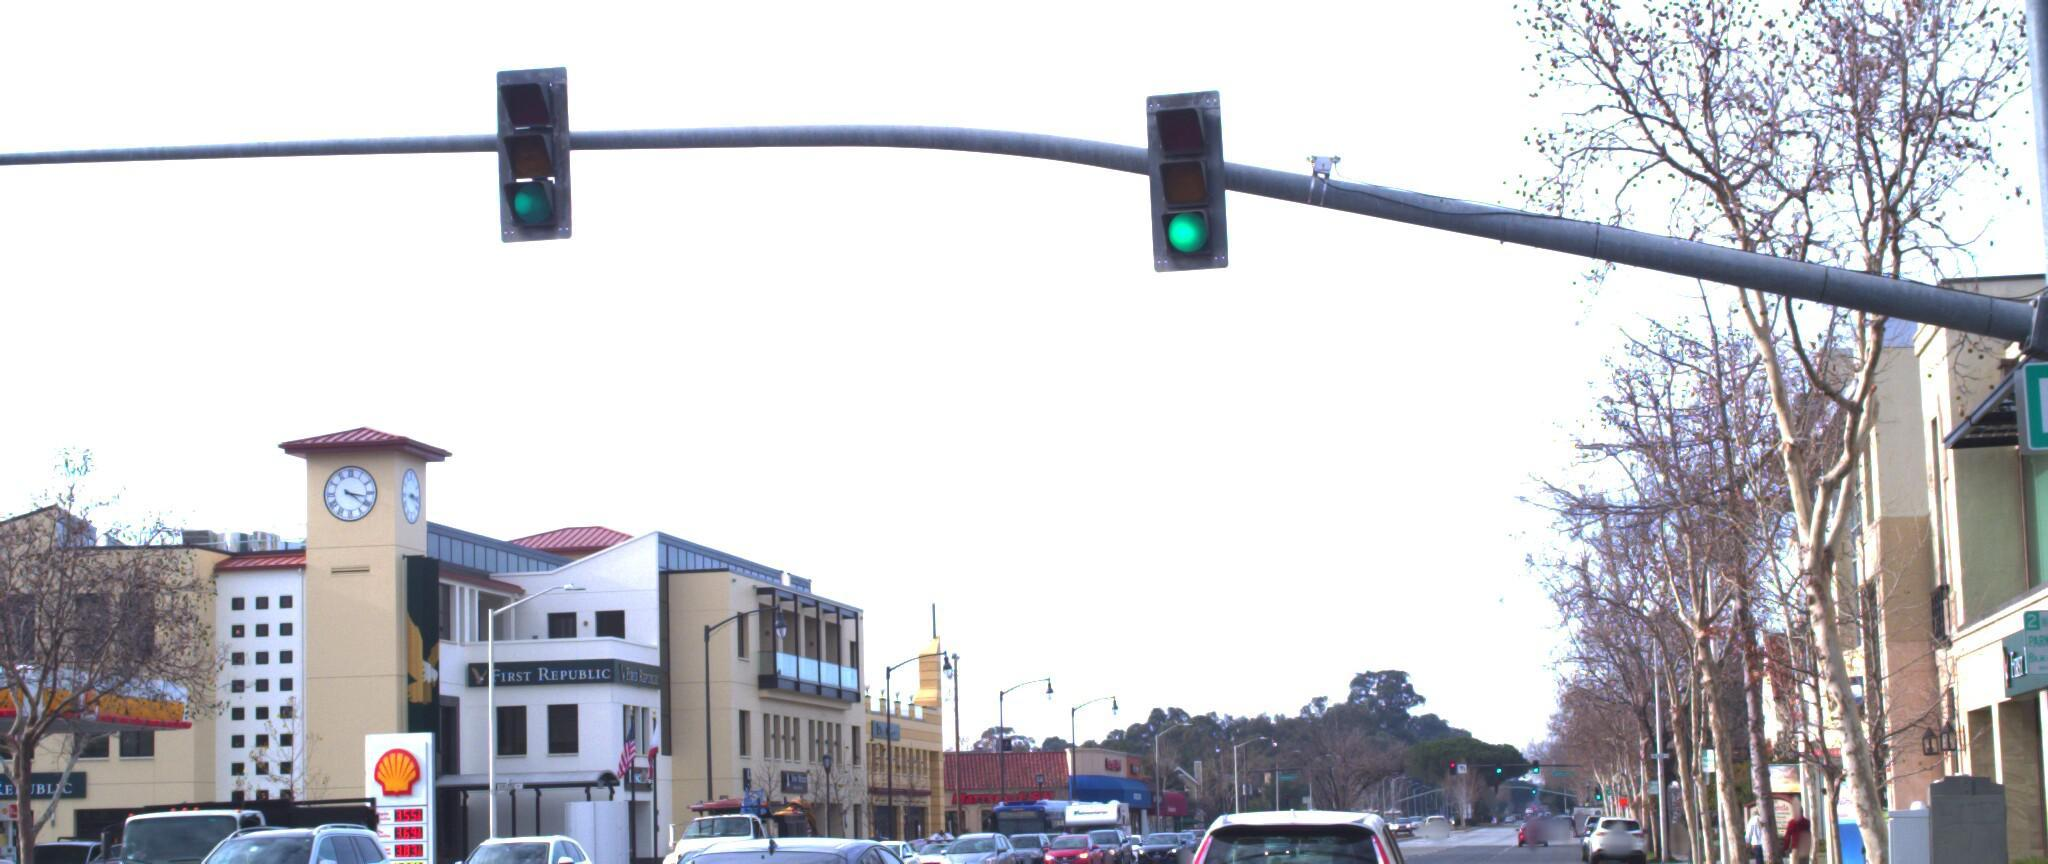car: (1155, 803, 1429, 864), (141, 822, 398, 864), (613, 839, 969, 864), (415, 830, 613, 864), (0, 846, 57, 864)
truck: (89, 780, 381, 864), (650, 784, 835, 864)
